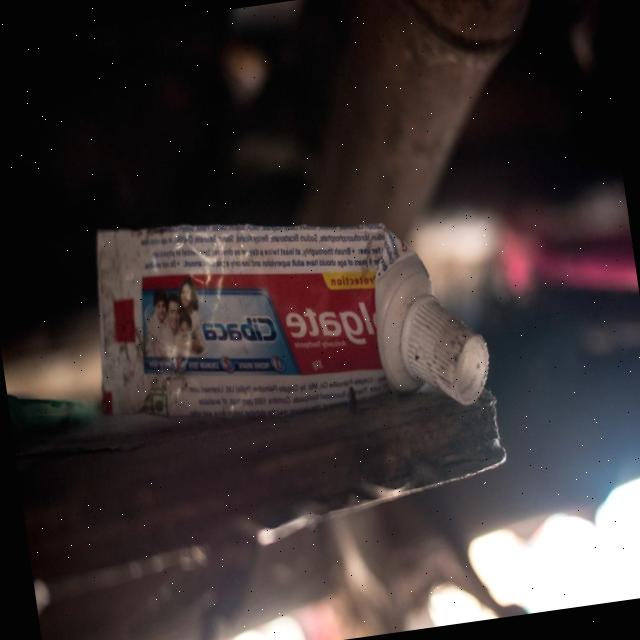Toothpaste: (52, 168, 512, 456)
